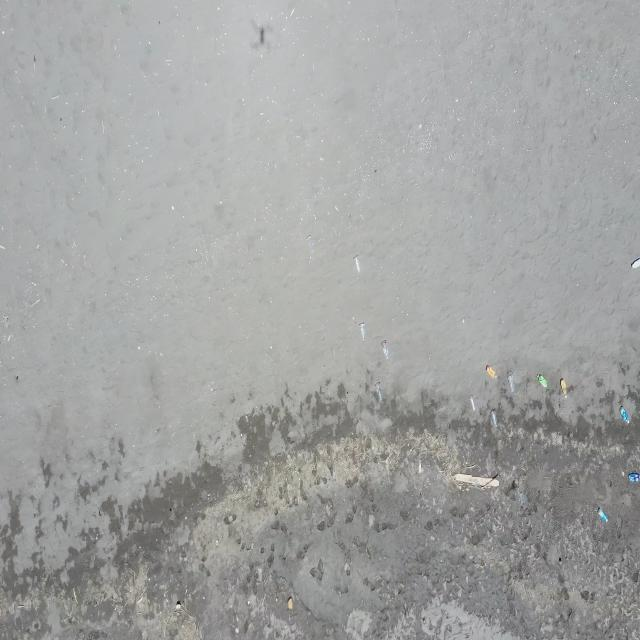plastic-bottle: (536, 371, 549, 389), (619, 404, 630, 424), (597, 505, 609, 523), (486, 364, 498, 379), (560, 377, 568, 399), (628, 470, 640, 484), (630, 254, 640, 269)
takeaway-cup: (352, 253, 362, 275), (358, 320, 367, 342), (374, 381, 383, 403), (490, 407, 499, 429), (306, 233, 315, 254), (507, 371, 515, 394), (381, 339, 390, 359), (468, 394, 477, 411)
